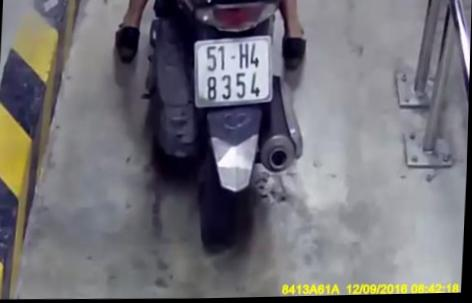LP: (189, 33, 278, 110)
